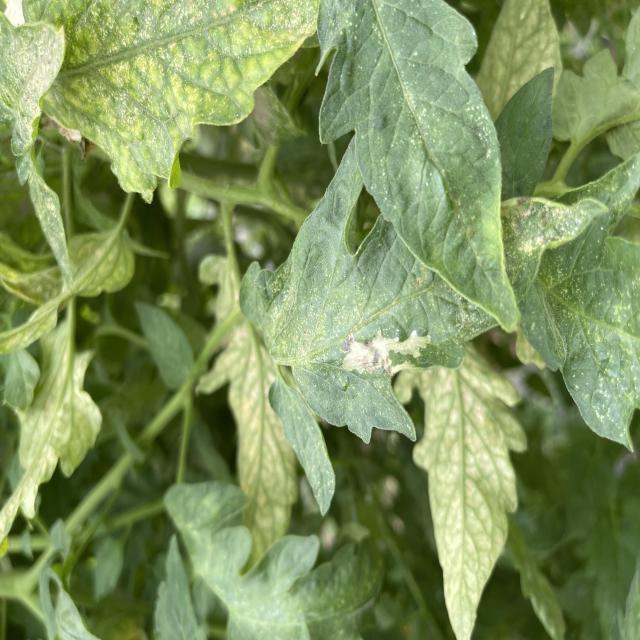Tuta absoluta: (342, 329, 428, 377)
